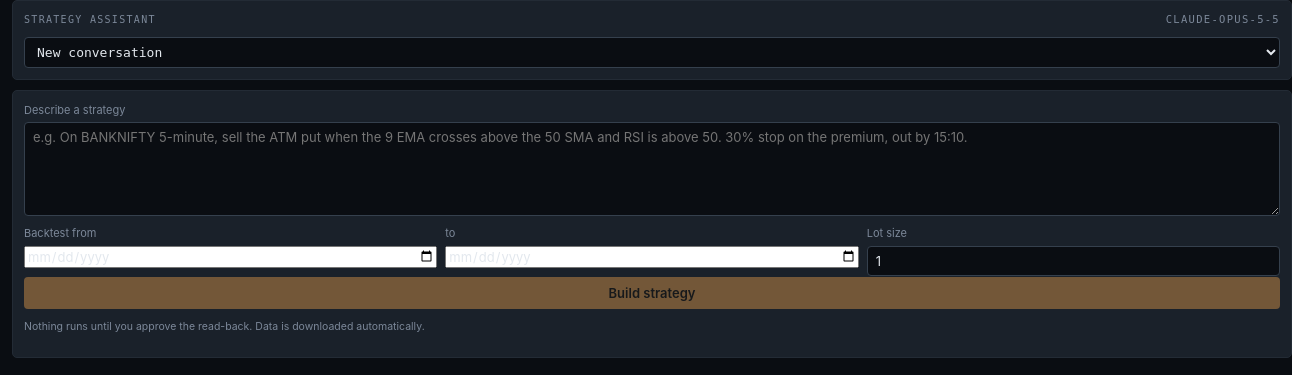
Scenario: Assistant › says how many backtests approving a sweep runs, and shows the grid
The image size is (1292, 375).
Later steps or results of the test are not shown.
Select "EMA" in the dropdown at (652, 52), box top-left (24, 37), bottom-right (1280, 68)
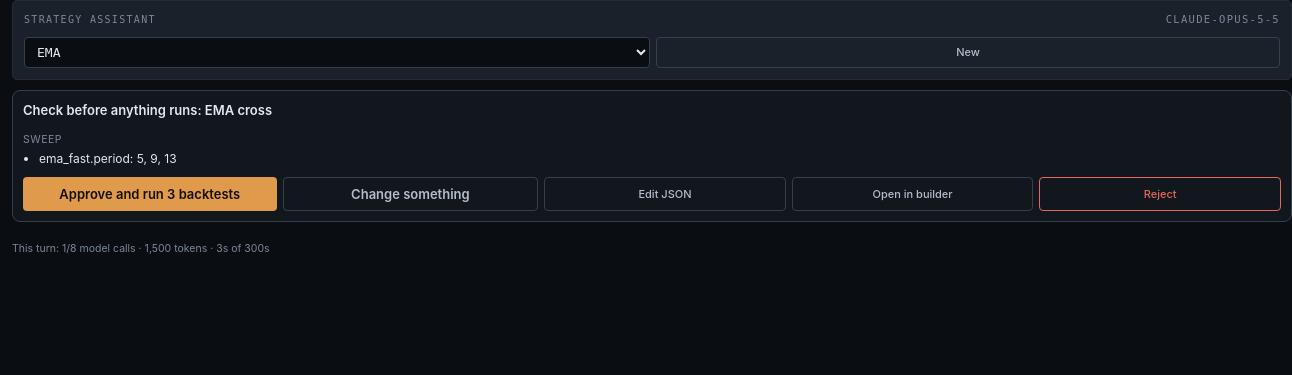
Check: the button "Approve and run 3 backtests" is shown, box top-left (23, 177), bottom-right (277, 211)
